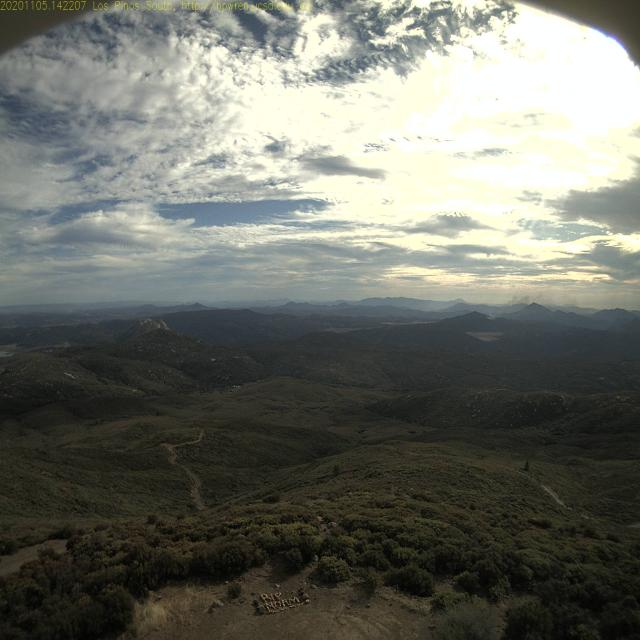smoke: (500, 286, 545, 307), (487, 308, 501, 322)
